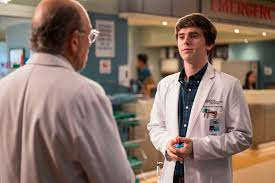Bad: (1, 1, 253, 183)
